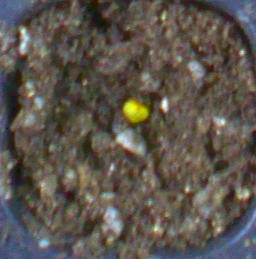pepper seed: (46, 38, 197, 163)
